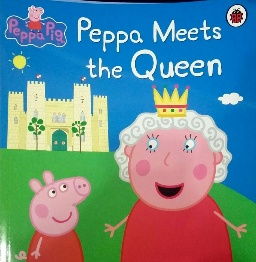Peppa: (12, 167, 94, 262)
